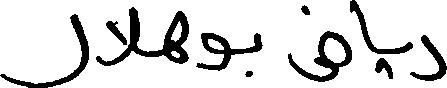X: (0, 9, 87, 87), (288, 0, 349, 86), (413, 30, 446, 85), (96, 16, 128, 70), (195, 28, 229, 75), (164, 6, 186, 68), (353, 0, 373, 56), (403, 37, 411, 79), (255, 28, 261, 56)
